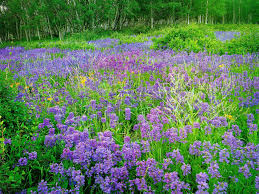flower: (11, 44, 251, 194)
